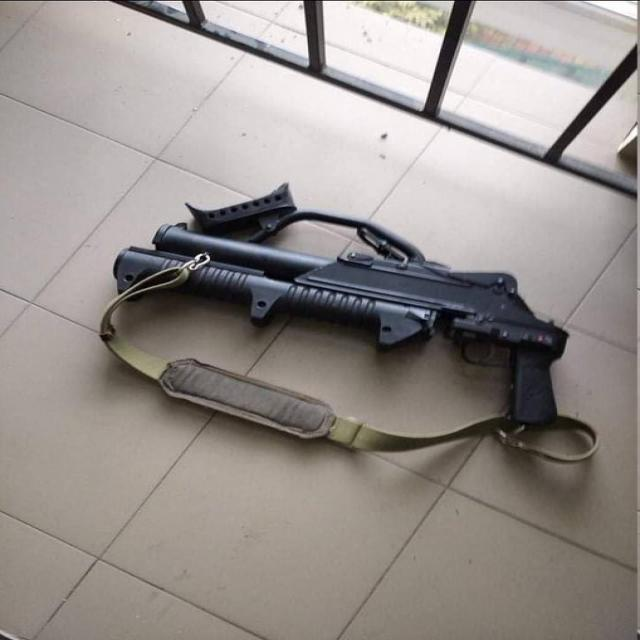shotgun: (102, 213, 601, 435)
